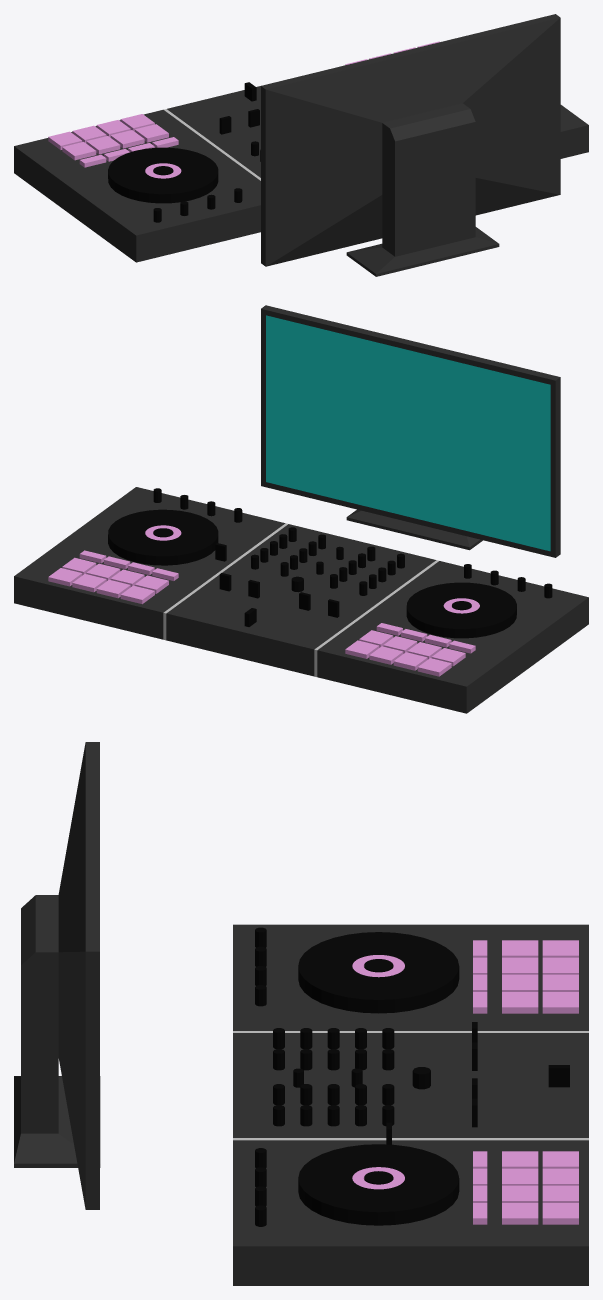
File: prop_djdesk.fbx
3 renders of one model, top to bottom at view 1: azimuth 30°, elevation 25°; view 2: azimuth 150°, elevation 25°; view 3: azimuth 270°, elevation 25°, orthographic. The views are drawn at different scales.
Parts seen in each view (by area): view 1: Cube.001; view 2: Cube.001; view 3: Cube.001.
Part boxes in pixels (<box>): Cube.001: <box>14,14,588,276</box>; Cube.001: <box>14,305,588,713</box>; Cube.001: <box>14,742,588,1285</box>.
Bounding box in the file's own units: 79.4 × 31.98 × 59.95.
